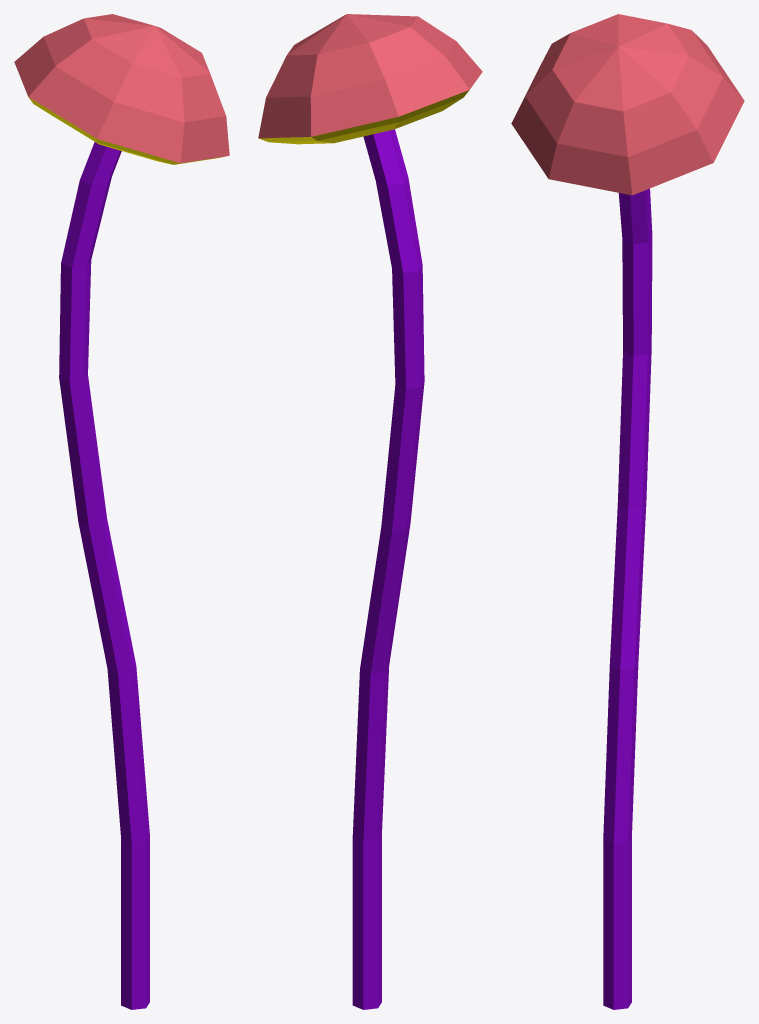
The model's file is tree-mushroom-small.fbx.
3 renders of one model, left to right at view 1: azimuth 30°, elevation 25°; view 2: azimuth 150°, elevation 25°; view 3: azimuth 270°, elevation 25°, orthographic.
Visible parts, largest first — view 1: tree-mushroom-small; view 2: tree-mushroom-small; view 3: tree-mushroom-small.
Boxes of the visible parts, <box> form: tree-mushroom-small: <box>14,14,229,1009</box>; tree-mushroom-small: <box>258,14,482,1009</box>; tree-mushroom-small: <box>511,14,744,1009</box>.
Size of the model in its own units: 0.4758 by 2.31 by 0.5044.
